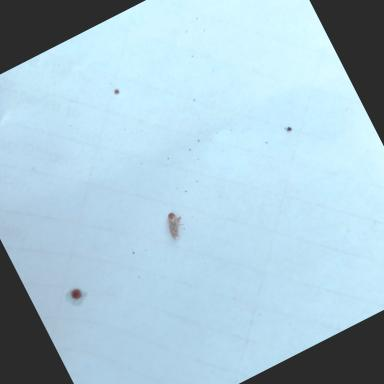pbw: (160, 207, 189, 239)
